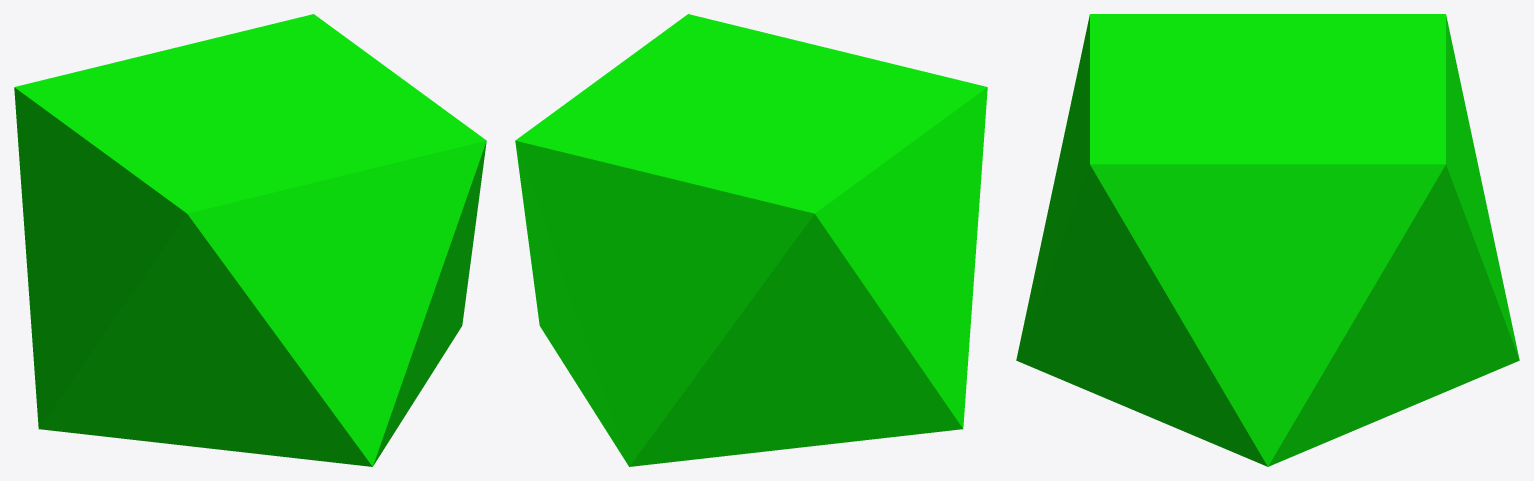
The model's file is regular_square_antiprism.fbx.
3 views of the same model, side by side, from view 1: azimuth 30°, elevation 25°; view 2: azimuth 150°, elevation 25°; view 3: azimuth 270°, elevation 25° (orthographic). The views are drawn at different scales.
Visible parts, largest first — view 1: regular_square_antiprism; view 2: regular_square_antiprism; view 3: regular_square_antiprism.
Part boxes in pixels (box(x1,y1,x2,y2)): regular_square_antiprism: box(14, 14, 486, 466); regular_square_antiprism: box(515, 14, 987, 466); regular_square_antiprism: box(1016, 14, 1519, 466).
Bounding box in the file's own units: 172 × 102 × 172.
